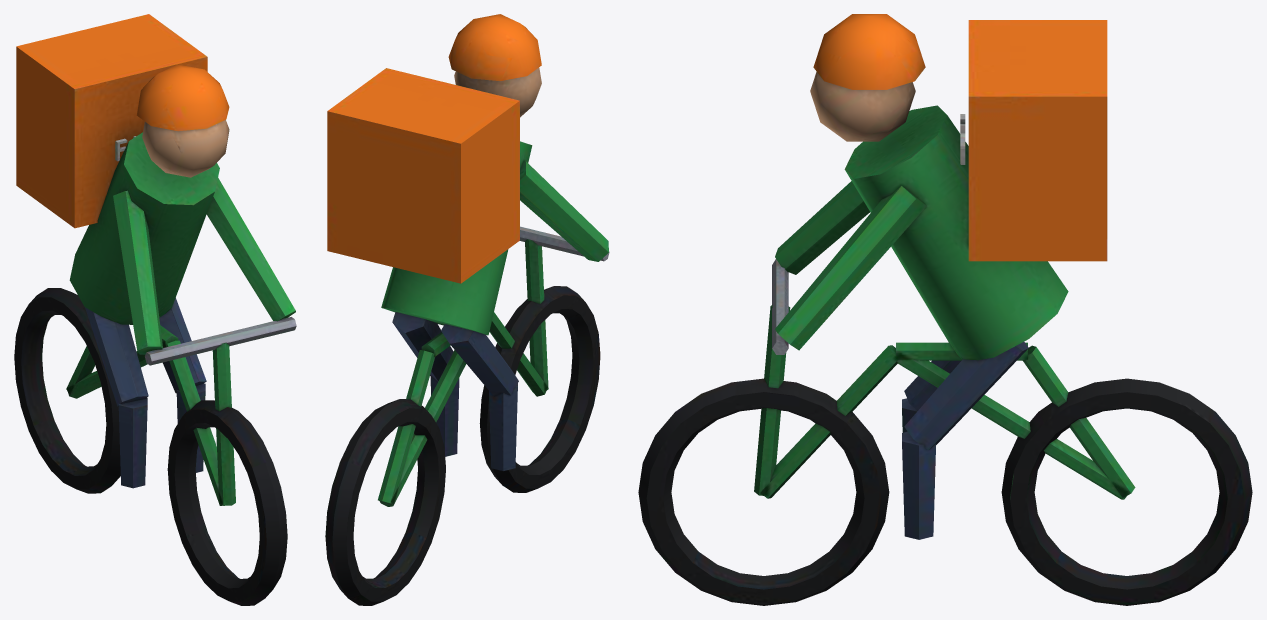
File: bici.glb
3 views of the same model, side by side, from view 1: azimuth 30°, elevation 25°; view 2: azimuth 150°, elevation 25°; view 3: azimuth 270°, elevation 25° (orthographic). The views are drawn at different scales.
Parts seen in each view (by area): view 1: bici; view 2: bici; view 3: bici.
Part boxes in pixels (box(x1,y1,x2,y2)): bici: box(14, 14, 296, 605); bici: box(325, 14, 609, 605); bici: box(638, 14, 1252, 605).
Bounding box in the file's own units: 0.6574 × 1.97 × 1.86.
1 material, 1 textured.
